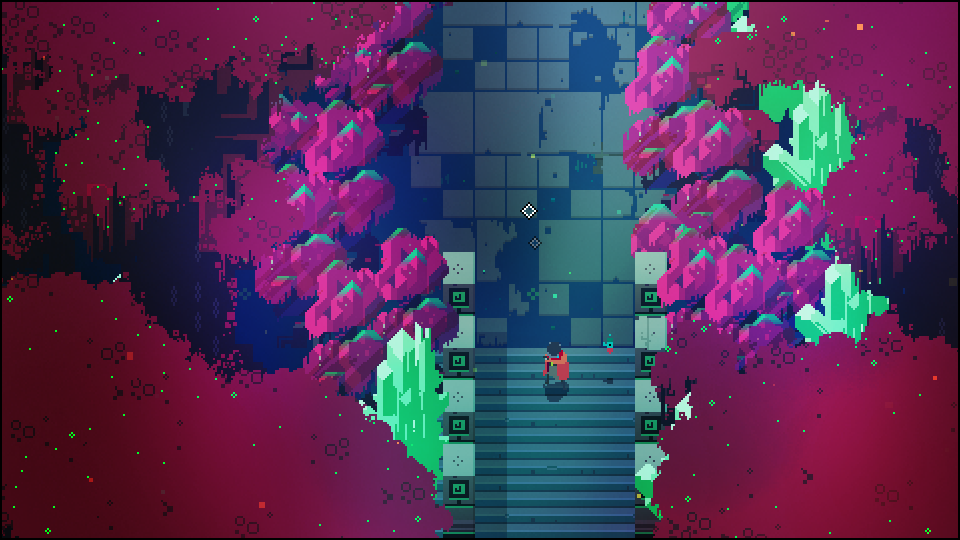player: (545, 346, 575, 387)
